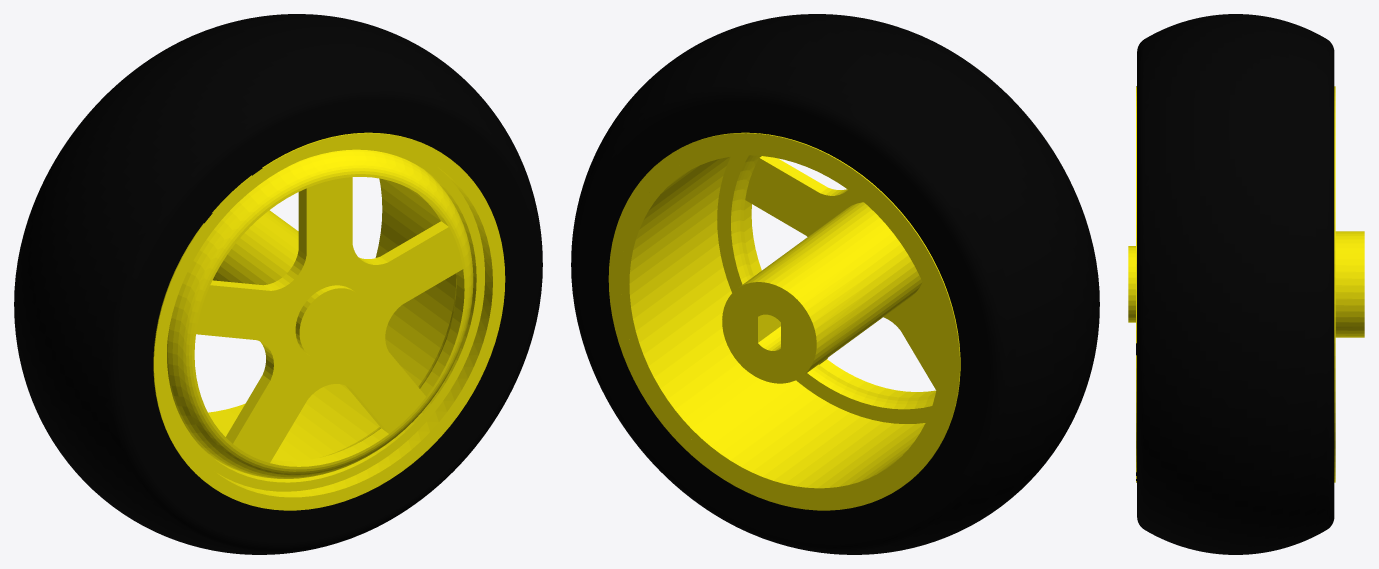
Rendered from wheel.gltf.
3 renders of one model, left to right at view 1: azimuth 30°, elevation 25°; view 2: azimuth 150°, elevation 25°; view 3: azimuth 270°, elevation 25°, orthographic. The views are drawn at different scales.
Visible parts, largest first — view 1: right; view 2: right; view 3: right.
Part boxes in pixels (<box>): right: <box>14,14,542,554</box>; right: <box>571,14,1099,554</box>; right: <box>1128,14,1364,554</box>.
Bounding box in the file's own units: 2.22 × 2.22 × 0.9716.
